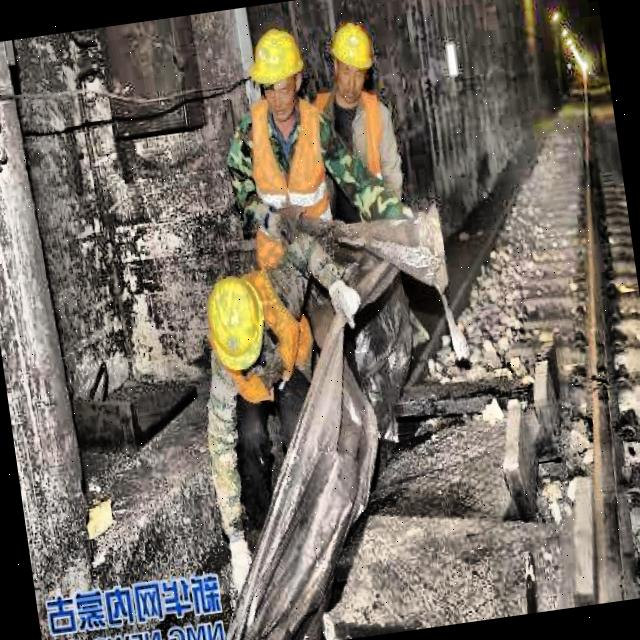helmet: (199, 268, 277, 389), (242, 21, 316, 124), (324, 15, 381, 102)
